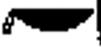Basket: (2, 6, 96, 38)
